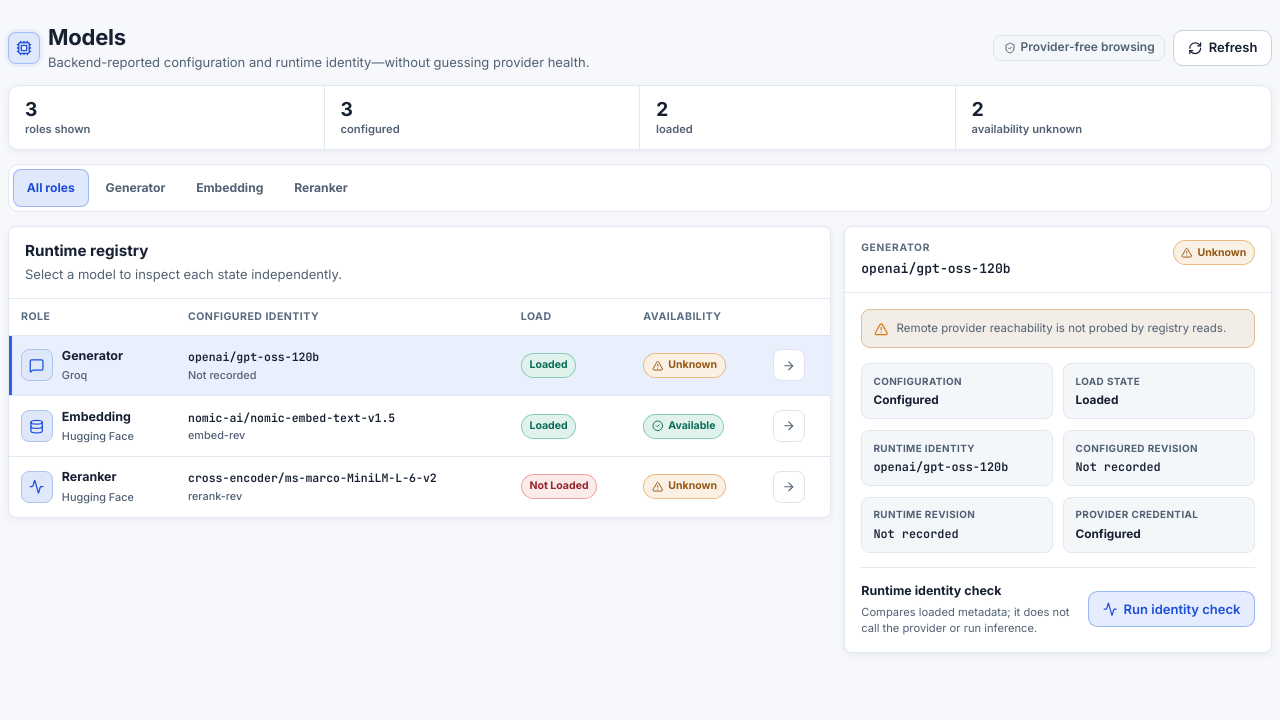
Test: ModelsConsole › explains local execution access failures without changing the read-only registry
Click the button "Run identity check" at (1172, 609), box [1088,591,1255,627]
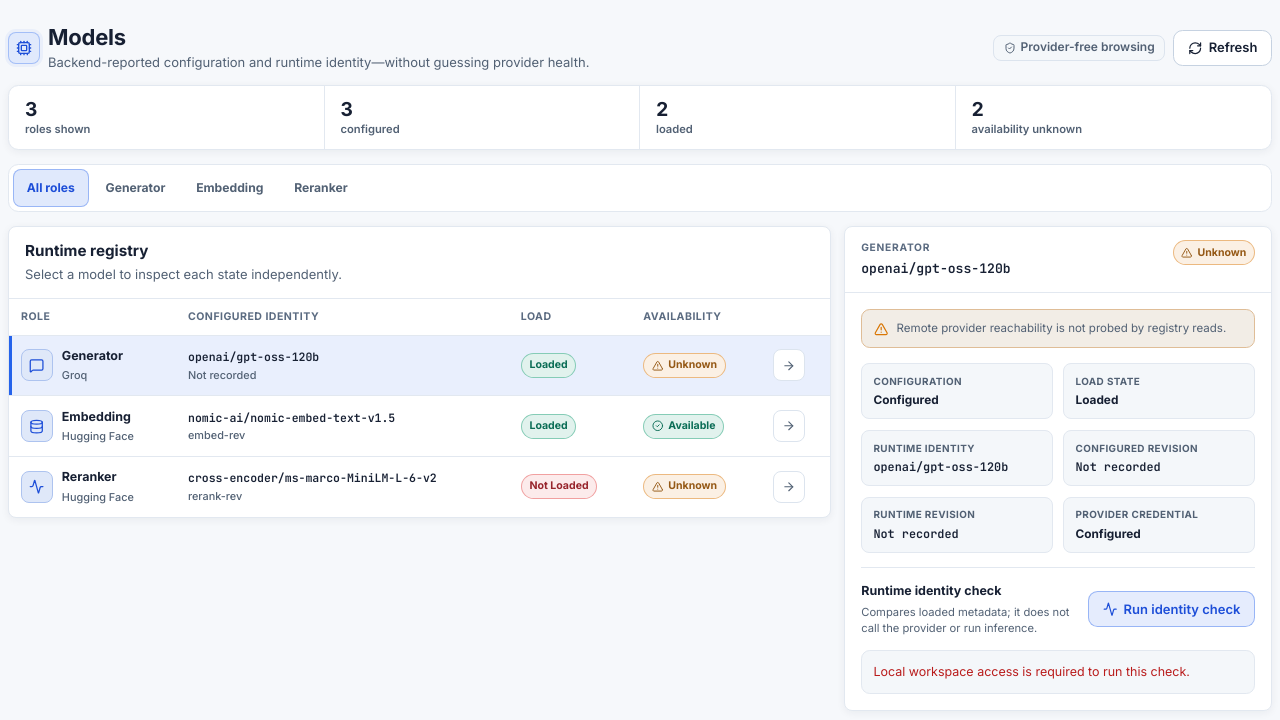
Expected: the tab "Generator" is shown, [92,169,179,207]
Now the text "Local workspace access is required to run this check." is shown, box [861,650,1255,694]
